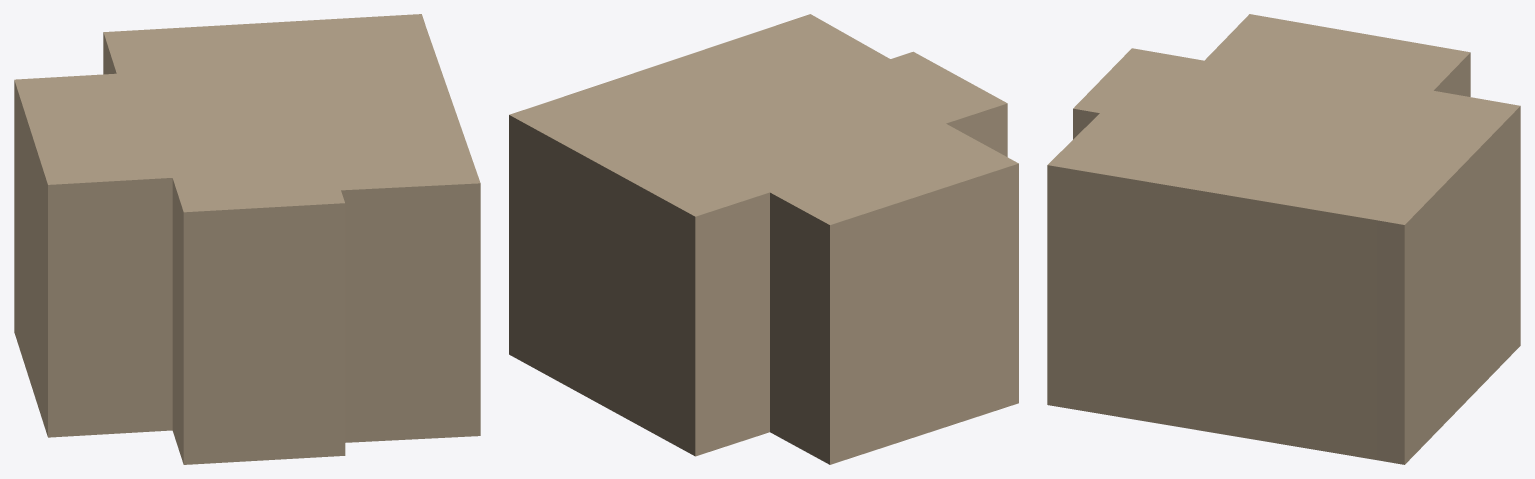
File: bld_99020419.dae
The picture shows the model from 3 angles, left to right: view 1: azimuth 30°, elevation 25°; view 2: azimuth 150°, elevation 25°; view 3: azimuth 270°, elevation 25°; orthographic projection. The views are drawn at different scales.
Parts seen in each view (by area): view 1: bld_99020419; view 2: bld_99020419; view 3: bld_99020419.
Boxes of the visible parts, x1,y1,x2,y2 form: bld_99020419: [14, 14, 480, 464]; bld_99020419: [509, 14, 1018, 464]; bld_99020419: [1047, 14, 1520, 464].
Size of the model in its own units: 15.1 by 14.3 by 8.
